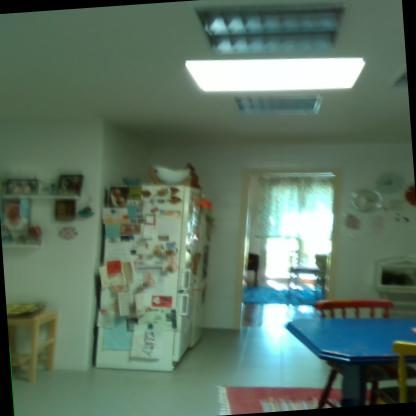open: (226, 153, 358, 334)
